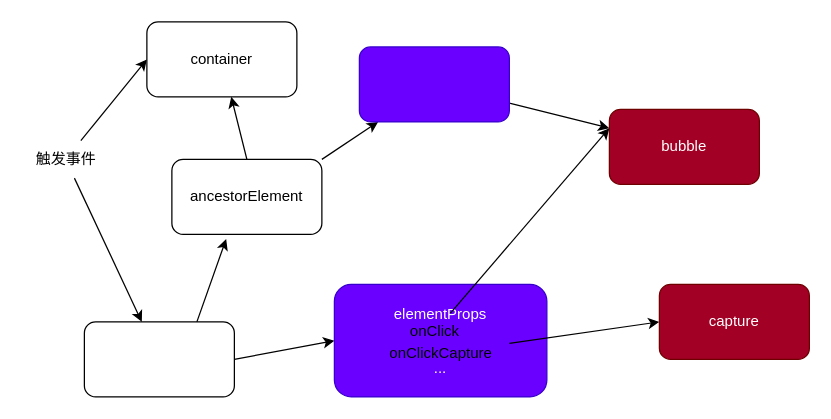
Some shapes in this 831 by 419 pixel diagram are drawn without their labels. Each missing label, with the centre of its shape:
"elementProps onClick" goes at [433,84].
"targetElement" goes at [158,359].
